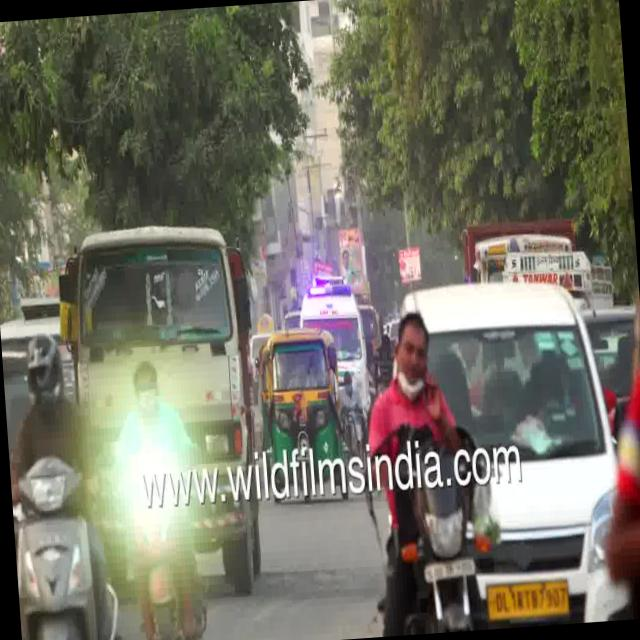ambulance: (298, 260, 367, 330)
